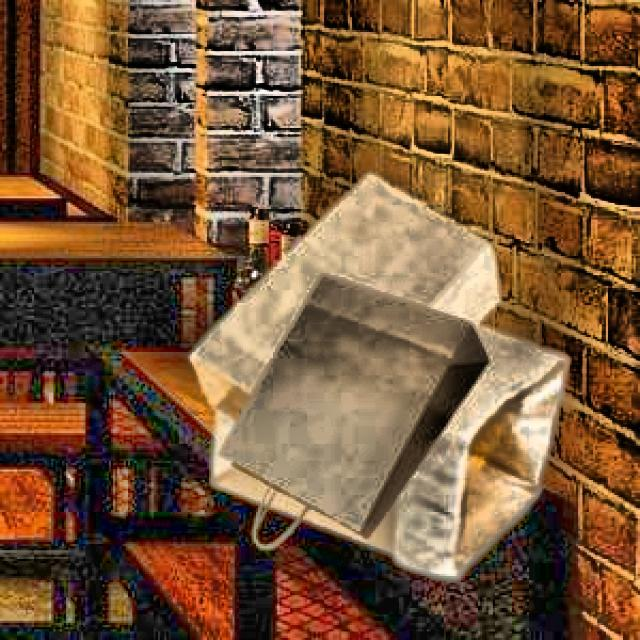Paper-bag: (194, 293, 564, 593), (189, 160, 505, 444), (221, 270, 501, 531)
